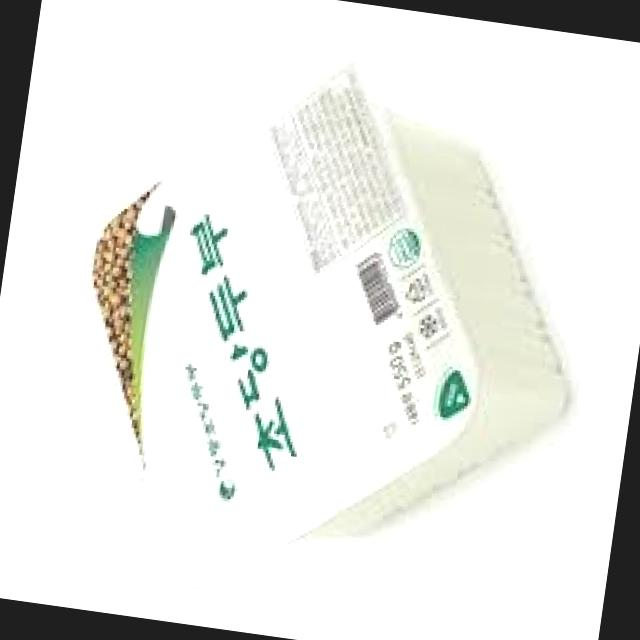tof: (20, 0, 608, 640)
